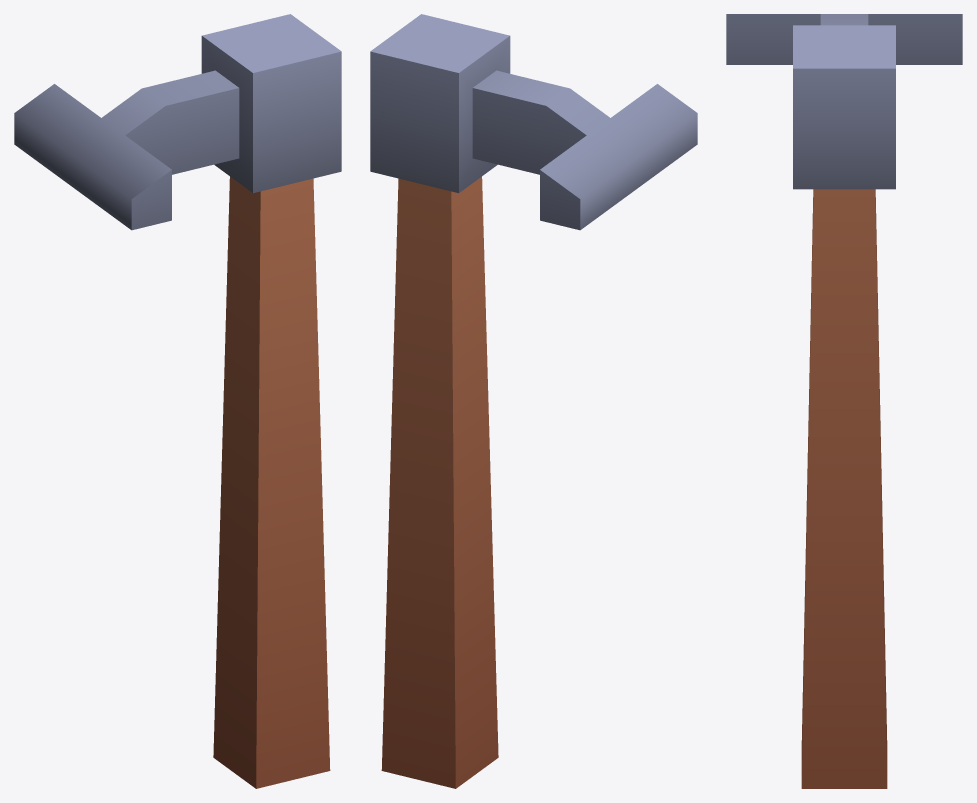
File: survival-tool-hoe.glb
3 renders of one model, left to right at view 1: azimuth 30°, elevation 25°; view 2: azimuth 150°, elevation 25°; view 3: azimuth 270°, elevation 25°, orthographic.
Visible parts, largest first — view 1: survival-tool-hoe; view 2: survival-tool-hoe; view 3: survival-tool-hoe.
Boxes of the visible parts, left/top/right/bottom form: survival-tool-hoe: left=14, top=14, right=341, bottom=788; survival-tool-hoe: left=370, top=14, right=697, bottom=788; survival-tool-hoe: left=726, top=14, right=962, bottom=788.
Bounding box in the file's own units: 0.0848 × 0.24 × 0.0709.
